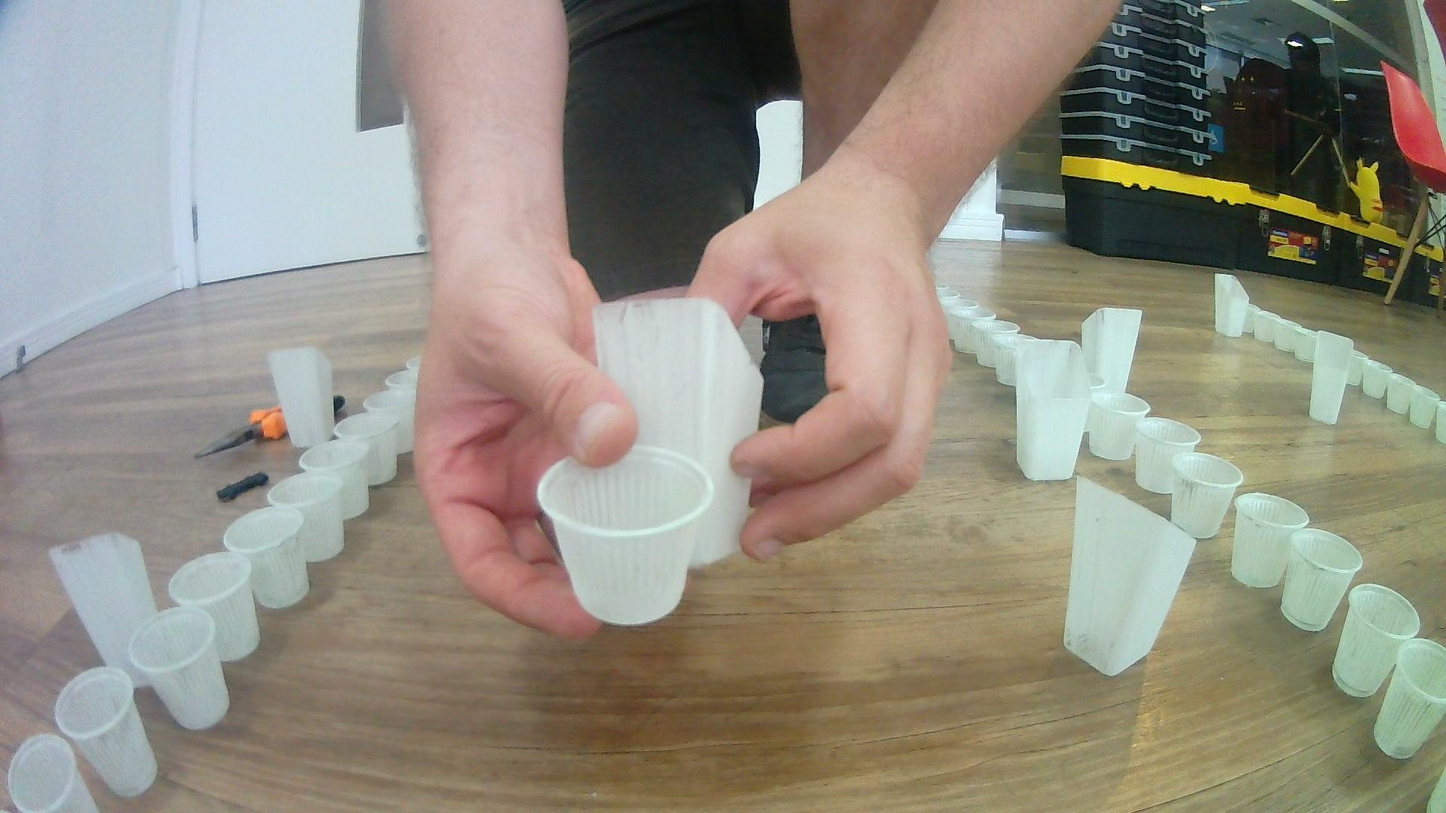erva_daninha: (591, 299, 765, 565), (1061, 473, 1194, 677), (47, 531, 169, 689), (1013, 338, 1090, 483), (265, 348, 336, 449), (1080, 306, 1144, 399), (1308, 330, 1355, 426), (1213, 272, 1251, 339)
planta: (536, 443, 716, 628), (54, 665, 160, 799), (127, 604, 233, 732), (167, 550, 262, 664), (1329, 582, 1421, 699), (1277, 527, 1366, 633), (222, 507, 313, 610), (1372, 636, 1446, 761), (1229, 490, 1310, 590), (7, 732, 101, 813), (267, 471, 347, 565), (1167, 450, 1246, 540), (299, 437, 374, 522), (1133, 416, 1201, 496), (333, 410, 400, 486), (1087, 389, 1155, 462), (362, 388, 415, 453), (990, 332, 1043, 388), (969, 319, 1021, 369), (949, 308, 997, 355), (941, 296, 980, 343), (1409, 385, 1441, 431), (1383, 373, 1416, 415), (1264, 315, 1299, 352), (1361, 360, 1393, 400), (1286, 324, 1317, 363), (1245, 306, 1276, 343), (935, 285, 961, 324), (1344, 350, 1370, 388), (1082, 373, 1109, 409), (384, 368, 420, 392), (1435, 399, 1446, 444), (405, 354, 423, 371)
